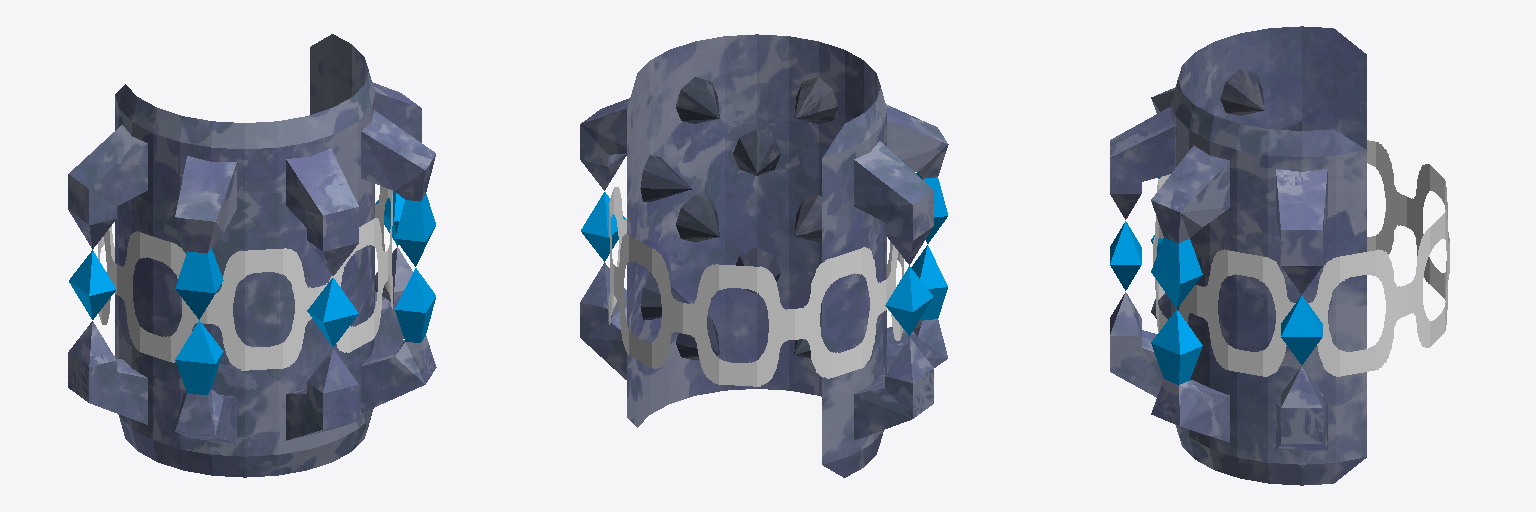
The picture shows the model from 3 angles: view 1: azimuth 30°, elevation 25°; view 2: azimuth 150°, elevation 25°; view 3: azimuth 270°, elevation 25°; orthographic projection.
Visible parts, largest first — view 1: CauterizingGreaveDisplayMesh_Cauterizing_Greave_Display; view 2: CauterizingGreaveDisplayMesh_Cauterizing_Greave_Display; view 3: CauterizingGreaveDisplayMesh_Cauterizing_Greave_Display.
Boxes of the visible parts, <box> form: CauterizingGreaveDisplayMesh_Cauterizing_Greave_Display: <box>68,34,436,477</box>; CauterizingGreaveDisplayMesh_Cauterizing_Greave_Display: <box>580,34,948,477</box>; CauterizingGreaveDisplayMesh_Cauterizing_Greave_Display: <box>1110,26,1449,485</box>.
Bounding box in the file's own units: 1.47 × 1.5 × 1.31.
1 materials, 1 textured.